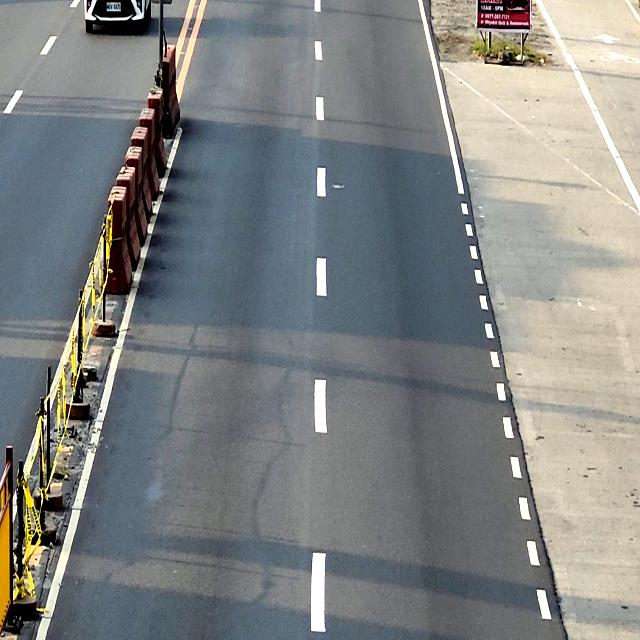Car: (83, 0, 152, 34)
License-Plate: (106, 2, 122, 11)
